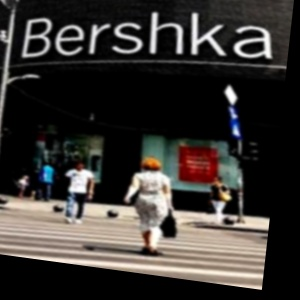bershka: (0, 14, 288, 76)
